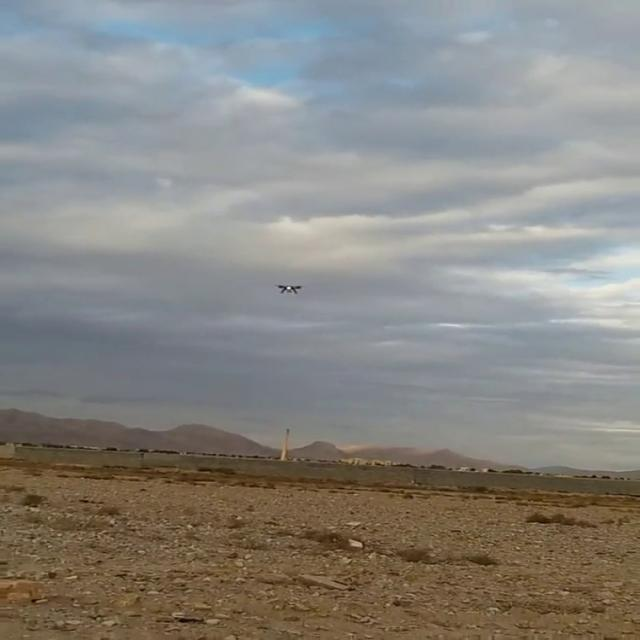drone: (272, 278, 305, 298)
